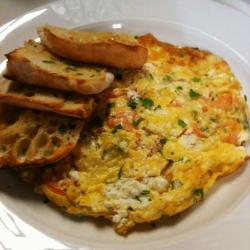bread: (1, 27, 105, 167)
omelette: (112, 73, 242, 227)
